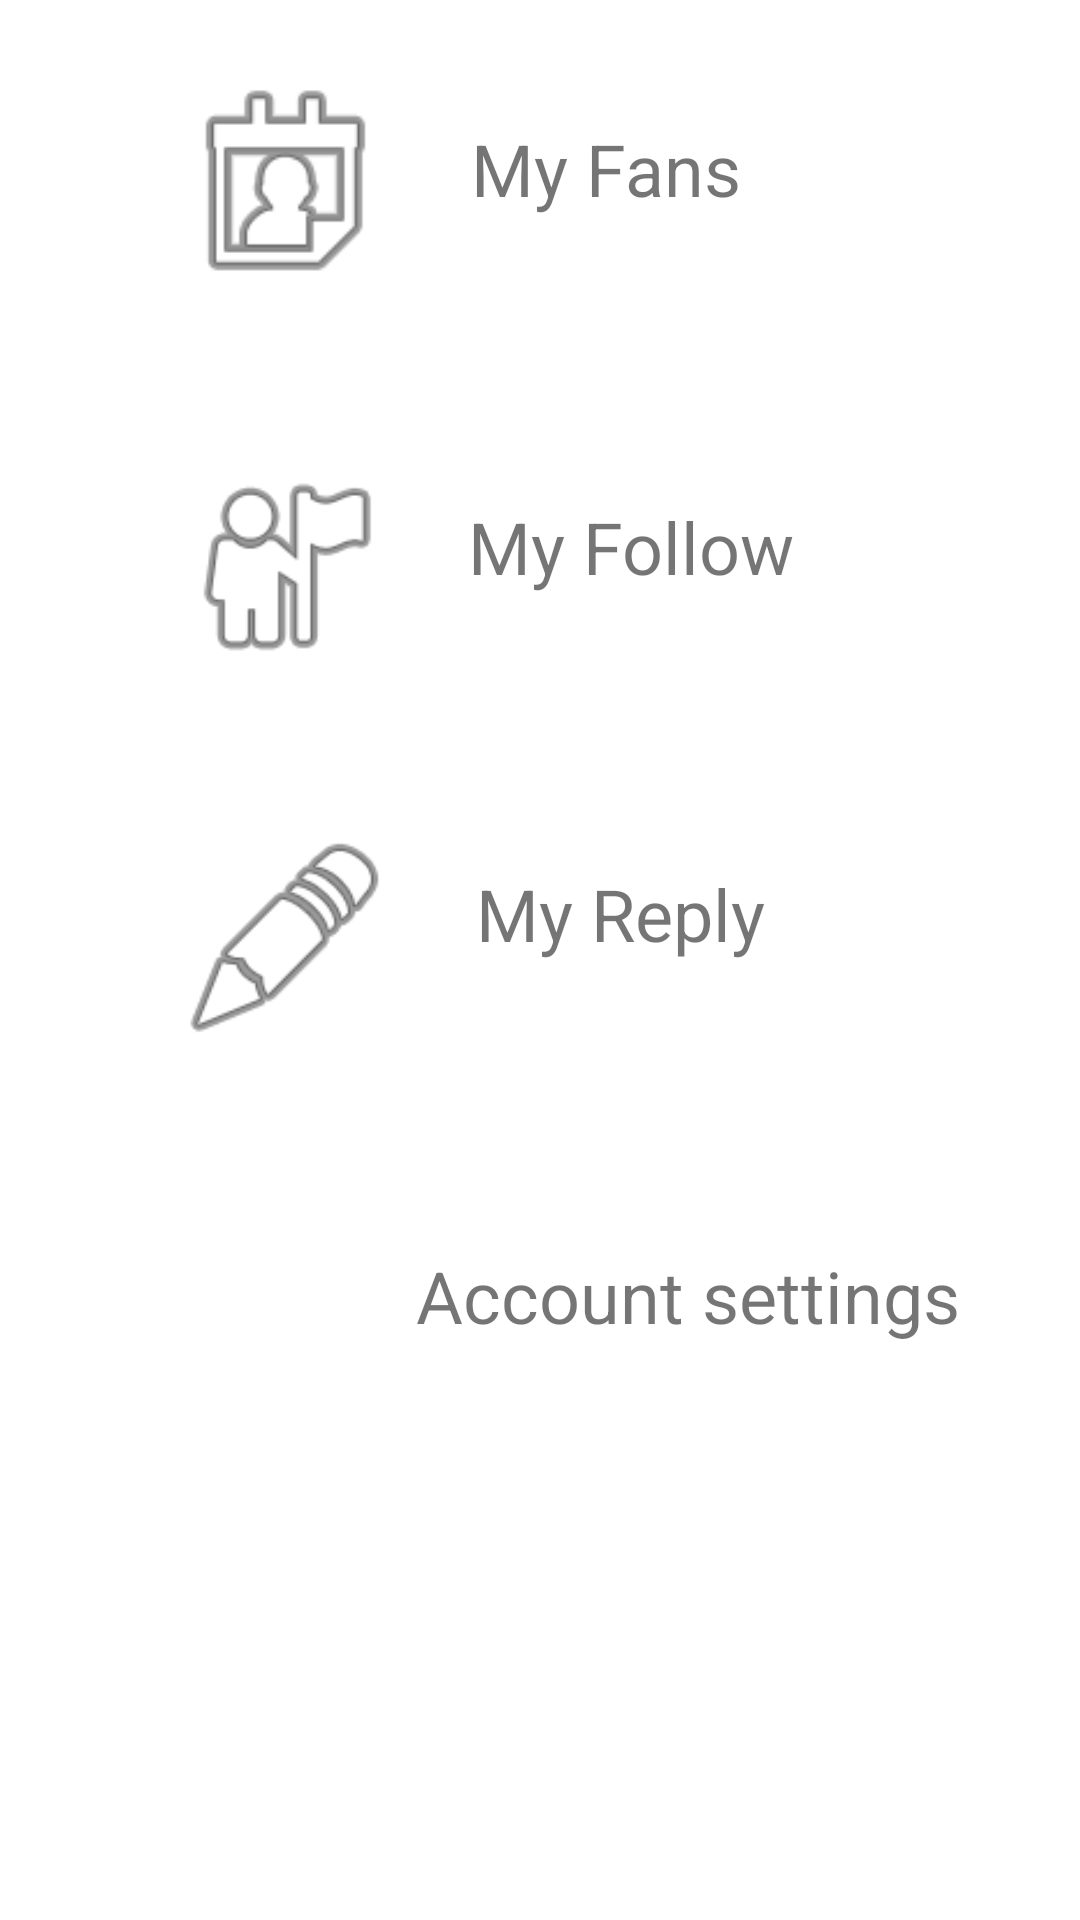

Screen size 1080 × 1920. Icon name, then its center in pixels as (x=x, y=y):
calendar: (x=285, y=180)
edit: (x=284, y=937)
